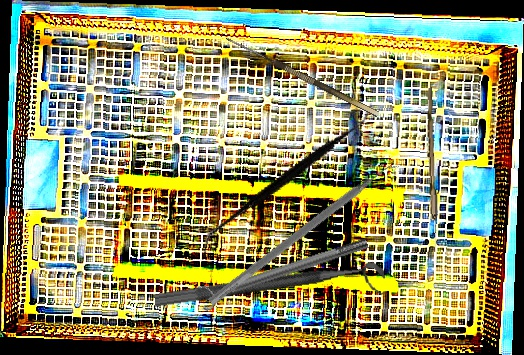Fixation Ring: (153, 260, 388, 327), (195, 230, 373, 313)
Hook Surgical: (221, 34, 380, 126)
Spatula Surgical: (199, 65, 377, 294), (207, 155, 403, 315)
Surgical Spoon: (423, 87, 442, 265)
